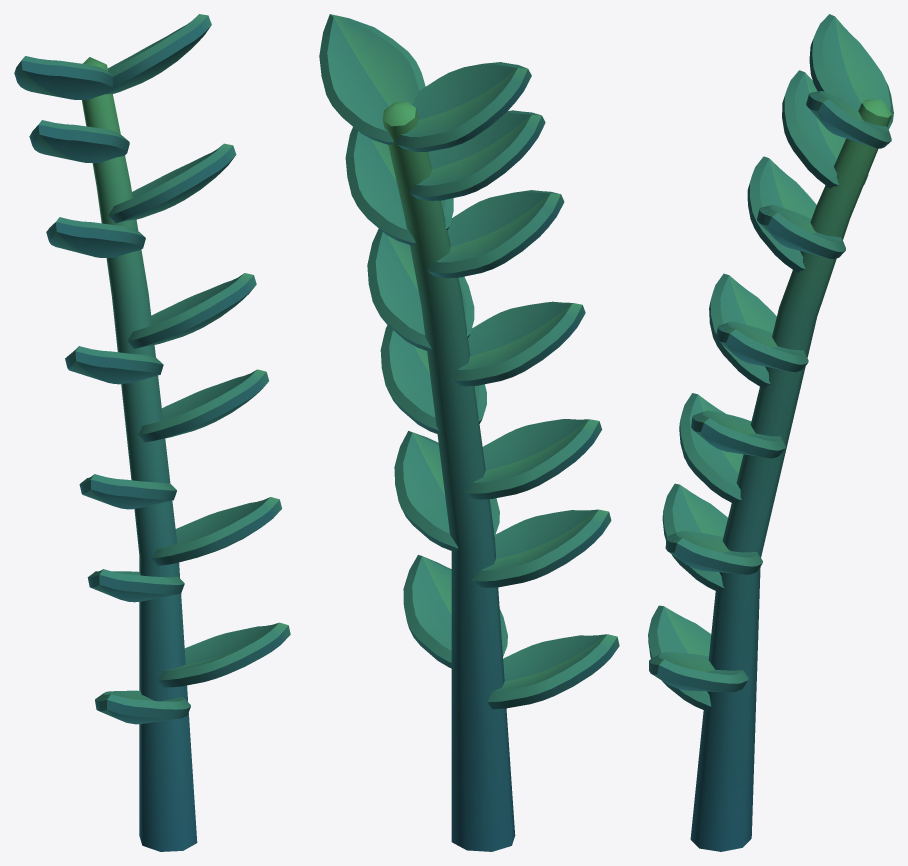
File: Zz Plant Leaf-c8FWHGpq1s.glb
3 views of the same model, side by side, from view 1: azimuth 30°, elevation 25°; view 2: azimuth 150°, elevation 25°; view 3: azimuth 270°, elevation 25° (orthographic). The views are drawn at different scales.
Parts seen in each view (by area): view 1: zzplant_leaf_large_C; view 2: zzplant_leaf_large_C; view 3: zzplant_leaf_large_C.
Boxes of the visible parts, bbox=[...] form: zzplant_leaf_large_C: bbox=[14, 14, 290, 851]; zzplant_leaf_large_C: bbox=[319, 14, 619, 851]; zzplant_leaf_large_C: bbox=[648, 14, 893, 851].
Size of the model in its own units: 0.6698 by 2.64 by 0.7517.
1 material, 1 textured.
